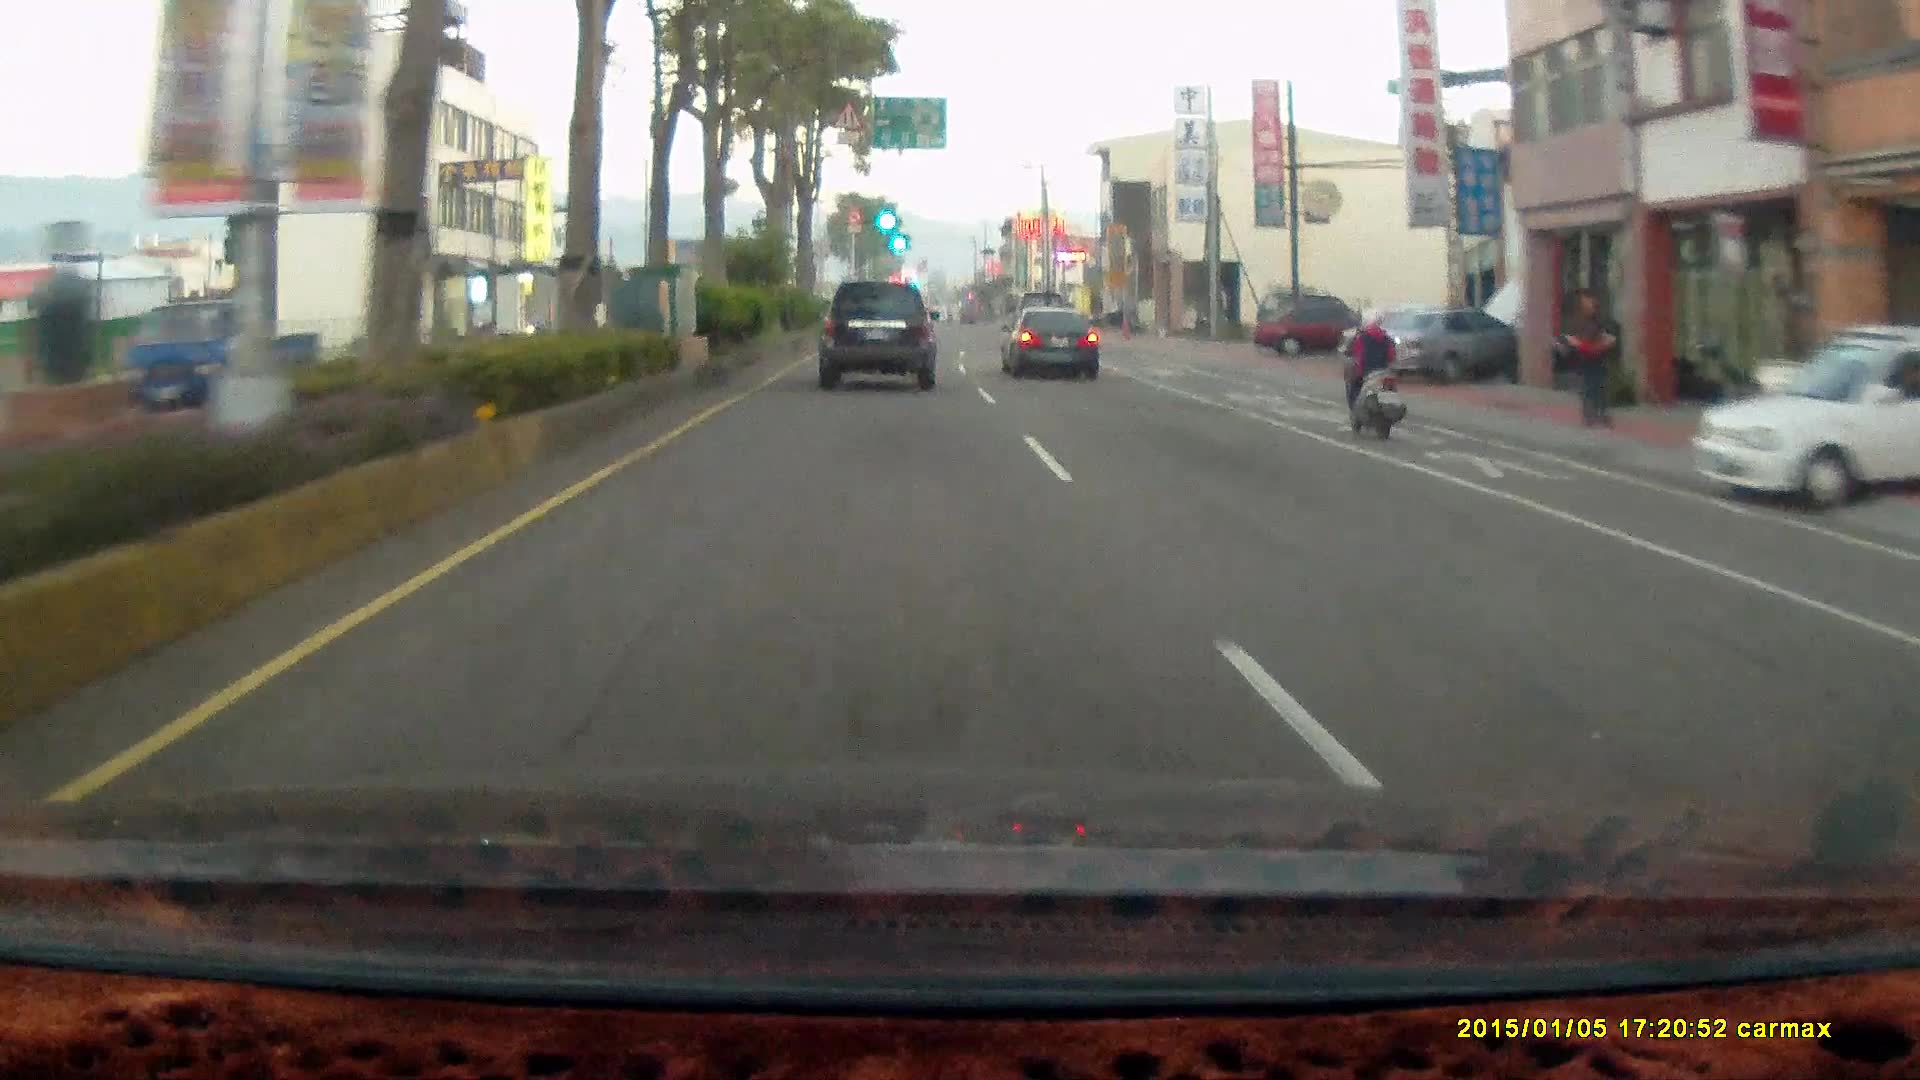pedestrian: (1557, 284, 1624, 433)
rider: (1327, 294, 1417, 449), (1337, 293, 1406, 427)
vehicle: (1690, 321, 1920, 518), (1690, 332, 1919, 513), (117, 290, 325, 427), (1353, 299, 1528, 384), (818, 281, 943, 394), (1342, 307, 1527, 384), (816, 279, 939, 388), (1253, 303, 1381, 363), (1000, 303, 1100, 376), (1003, 306, 1105, 377), (1252, 303, 1379, 356)
